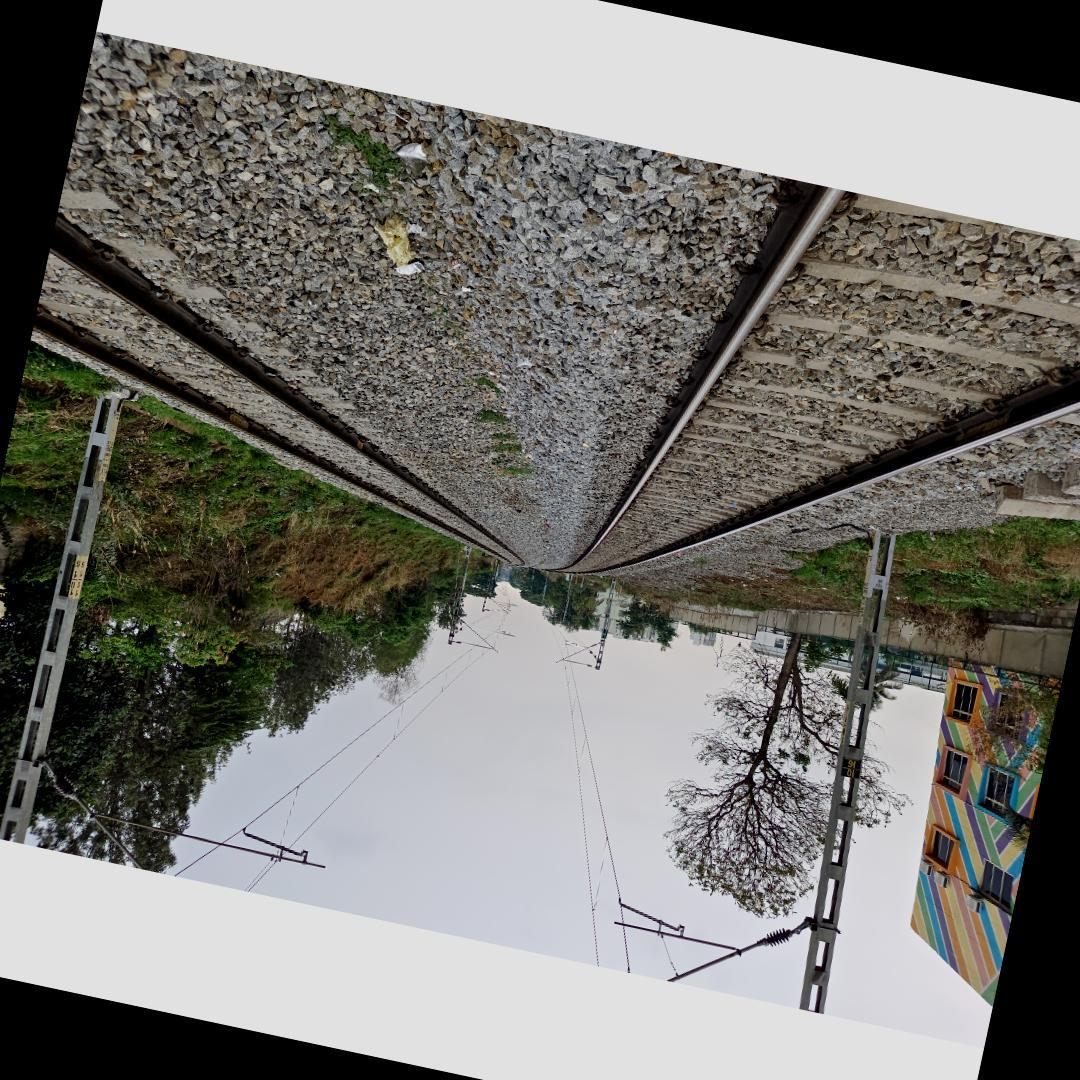track: (547, 181, 1080, 596)
